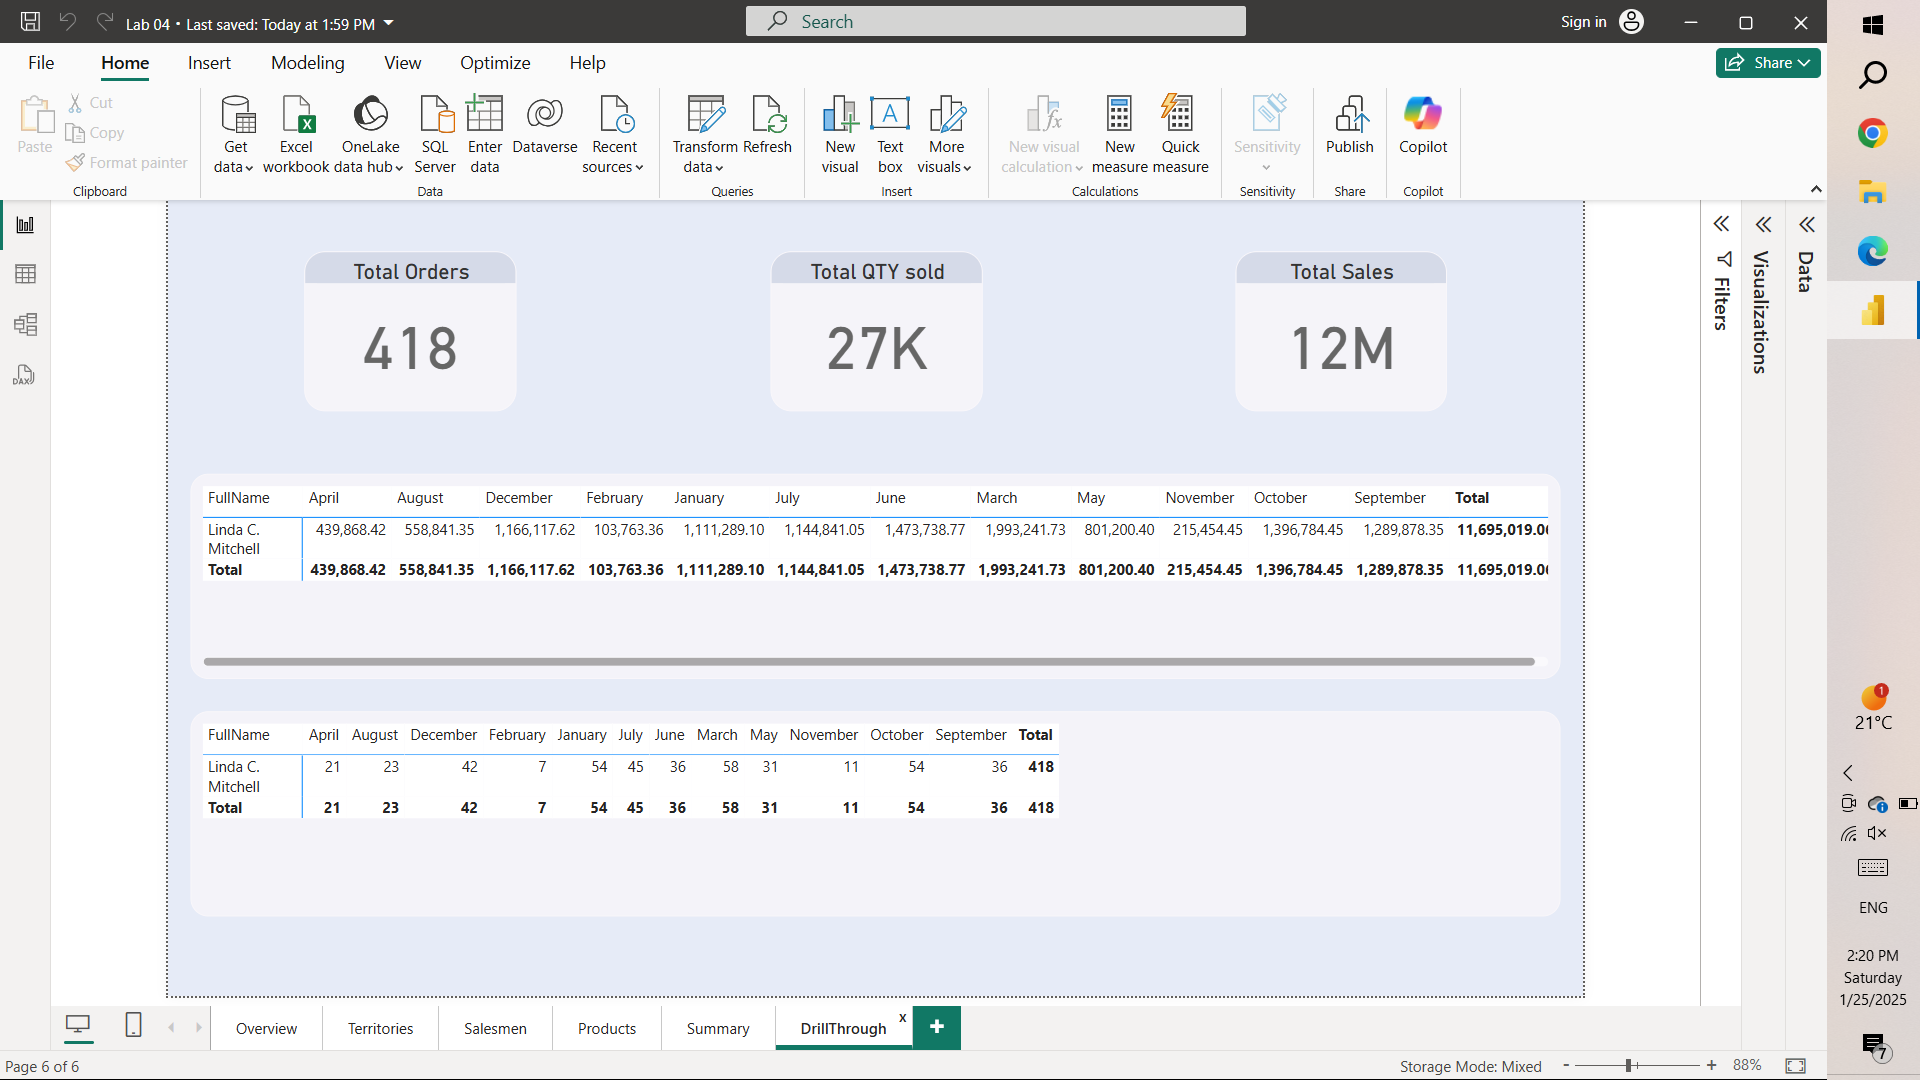

Layout of this report page (visuals, bound fields, positions):
{"tool":"powerbi","page":{"name":"DrillThrough","canvas":[1280,720],"ordinal":5},"visuals":[{"type":"pivotTable","fields":{"Rows":["vw_DimSalesPersons.FullName"],"Values":["DAX_Measures.TotalDue"],"Columns":["DimDate.Month Name"]},"box":[20.4,247.6,1239.2,185.4],"z":1},{"type":"pivotTable","fields":{"Rows":["vw_DimSalesPersons.FullName"],"Columns":["DimDate.Month Name"],"Values":["DAX_Measures.No.Orders"]},"box":[20.4,462.4,1239.2,185.4],"z":2},{"type":"card","title":"Total Orders","fields":{"Values":["DAX_Measures.No.Orders"]},"box":[123.2,46.4,192.2,144.7],"z":3},{"type":"card","title":"Total QTY sold","fields":{"Values":["DAX_Measures.TotalQuantity"]},"box":[544.4,46.4,192.2,144.7],"z":4},{"type":"card","title":"Total Sales","fields":{"Values":["DAX_Measures.TotalDue"]},"box":[965.6,46.4,191.1,144.7],"z":5}]}

Visuals, with their boxes on the page's 1280x720 design canvas (x1, y1, x2, y2). These are canvas units, not pixel positions in the 1920x1080 screenshot, which may show the page scaled, cropped or inside an application window:
pivotTable - vw_DimSalesPersons.FullName x DAX_Measures.TotalDue: [x1=20, y1=248, x2=1260, y2=433]
pivotTable - vw_DimSalesPersons.FullName x DimDate.Month Name: [x1=20, y1=462, x2=1260, y2=648]
"Total Orders" card: [x1=123, y1=46, x2=315, y2=191]
"Total QTY sold" card: [x1=544, y1=46, x2=737, y2=191]
"Total Sales" card: [x1=966, y1=46, x2=1157, y2=191]
